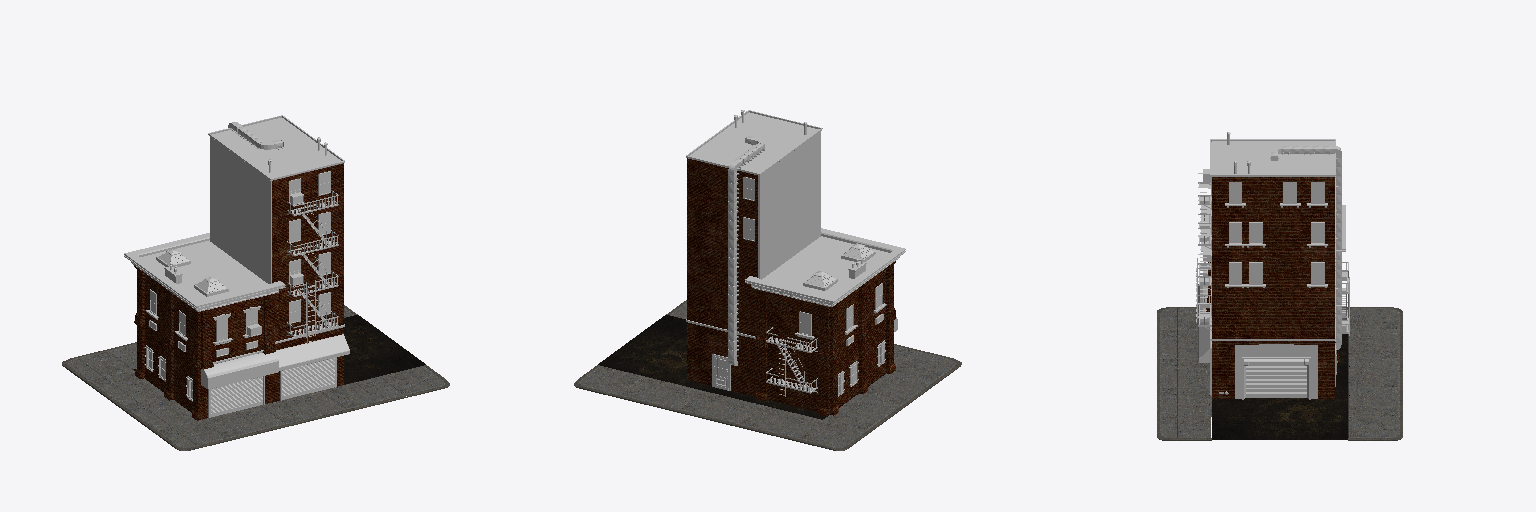
3 views of the same model, side by side, from view 1: azimuth 30°, elevation 25°; view 2: azimuth 150°, elevation 25°; view 3: azimuth 270°, elevation 25° (orthographic).
Parts seen in each view (by area): view 1: brick.4_Mesh_2, wall_roof_rollup.2_Mesh_0, concrete.7_Mesh_5, other_bits.6_Mesh_4, cornices_and_trim.5_Mesh_3, asphalt.3_Mesh_1; view 2: brick.4_Mesh_2, wall_roof_rollup.2_Mesh_0, concrete.7_Mesh_5, other_bits.6_Mesh_4, asphalt.3_Mesh_1, cornices_and_trim.5_Mesh_3; view 3: brick.4_Mesh_2, concrete.7_Mesh_5, other_bits.6_Mesh_4, wall_roof_rollup.2_Mesh_0, asphalt.3_Mesh_1, cornices_and_trim.5_Mesh_3.
Boxes of the visible parts, <box> form: brick.4_Mesh_2: <box>134,163,343,420</box>; wall_roof_rollup.2_Mesh_0: <box>140,118,340,417</box>; concrete.7_Mesh_5: <box>62,305,449,450</box>; other_bits.6_Mesh_4: <box>144,122,349,401</box>; cornices_and_trim.5_Mesh_3: <box>124,115,344,364</box>; asphalt.3_Mesh_1: <box>133,315,425,410</box>; brick.4_Mesh_2: <box>687,158,895,415</box>; wall_roof_rollup.2_Mesh_0: <box>690,112,888,295</box>; concrete.7_Mesh_5: <box>574,300,961,450</box>; other_bits.6_Mesh_4: <box>712,110,897,396</box>; asphalt.3_Mesh_1: <box>598,315,884,419</box>; cornices_and_trim.5_Mesh_3: <box>686,110,905,338</box>; brick.4_Mesh_2: <box>1206,177,1339,398</box>; concrete.7_Mesh_5: <box>1157,307,1402,440</box>; other_bits.6_Mesh_4: <box>1196,132,1349,394</box>; wall_roof_rollup.2_Mesh_0: <box>1210,141,1334,399</box>; asphalt.3_Mesh_1: <box>1212,334,1347,439</box>; cornices_and_trim.5_Mesh_3: <box>1201,139,1345,340</box>.
Bounding box in the file's own units: 91.74 × 76.15 × 71.81.
6 materials, 3 textured.